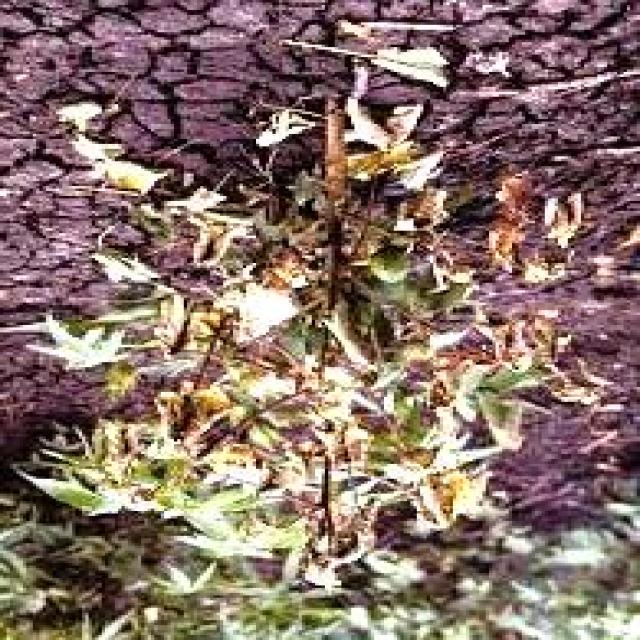Fusarium Wilt: (16, 44, 518, 640)
